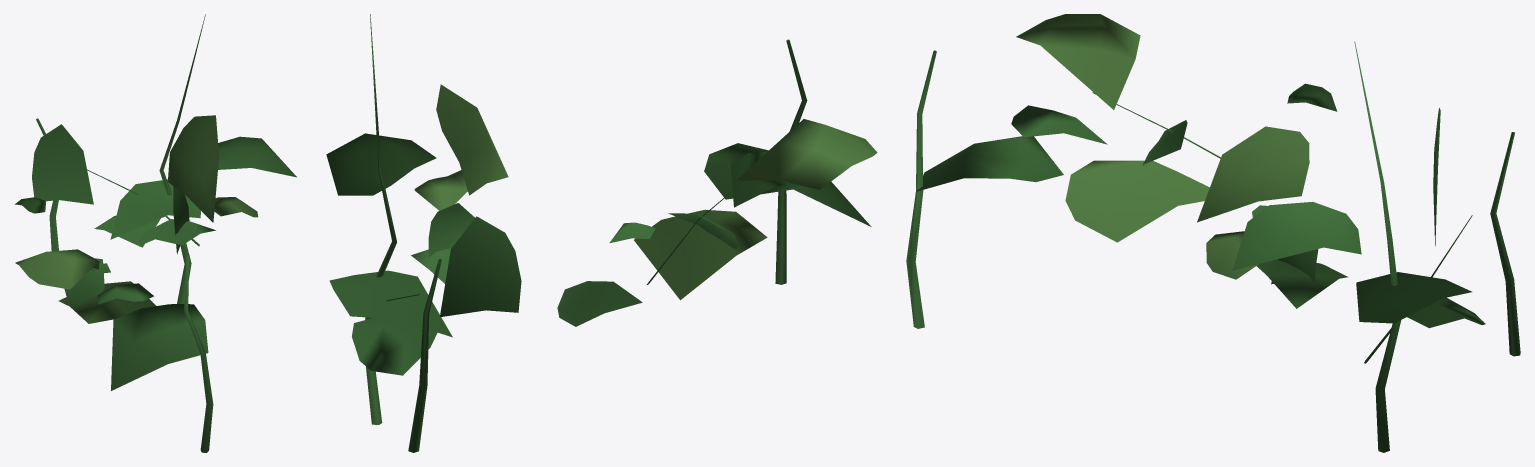
The model's file is forracao_1_muito_longe.glb.
3 renders of one model, left to right at view 1: azimuth 30°, elevation 25°; view 2: azimuth 150°, elevation 25°; view 3: azimuth 270°, elevation 25°, orthographic. The views are drawn at different scales.
Visible parts, largest first — view 1: forracao_1_muito_longe; view 2: forracao_1_muito_longe; view 3: forracao_1_muito_longe.
Boxes of the visible parts, bbox=[...] form: forracao_1_muito_longe: bbox=[15, 14, 296, 452]; forracao_1_muito_longe: bbox=[326, 14, 877, 452]; forracao_1_muito_longe: bbox=[906, 14, 1520, 452].
Size of the model in its own units: 0.4936 by 0.4345 by 0.5769.
